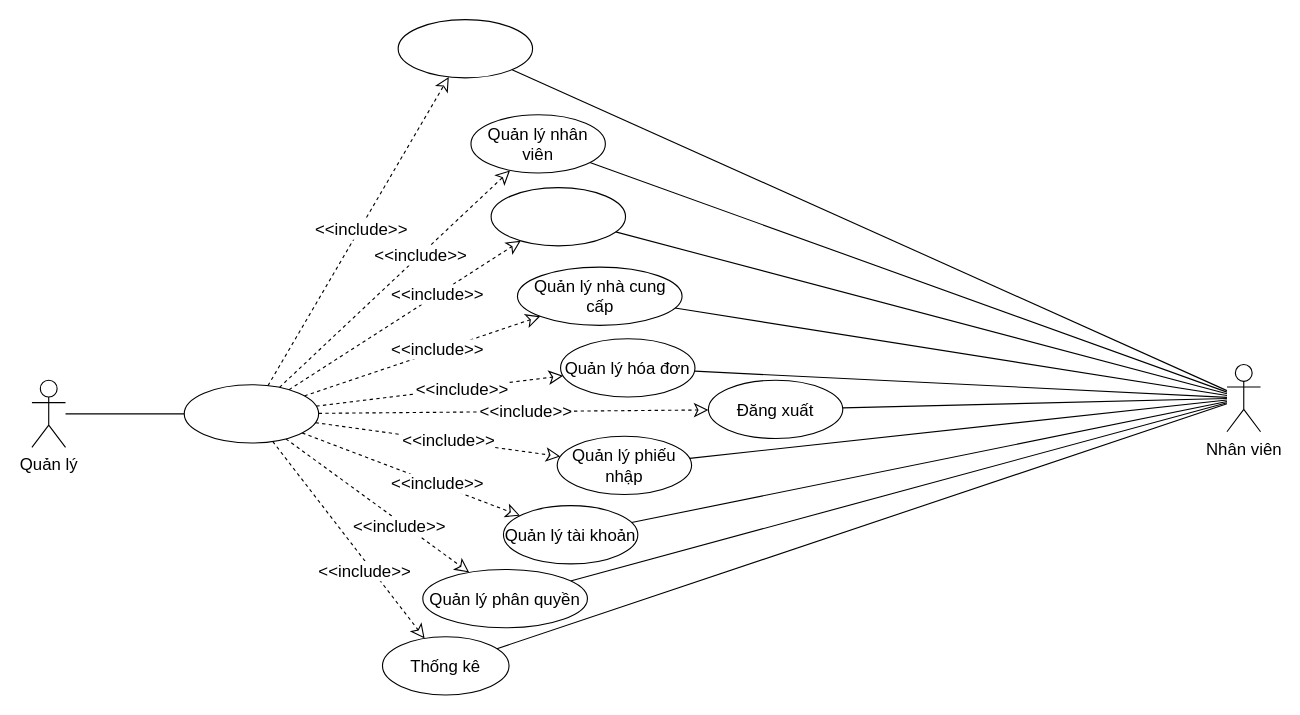
The diagram is 1300 pixels wide and 715 high, and some of its shapes have lost their labels. Each missing label, with the box of its shape:
Quản lý khách hàng: (490, 186, 626, 246)
Quản lý sản phẩm: (397, 18, 533, 78)
Đăng nhập: (183, 384, 319, 443)
